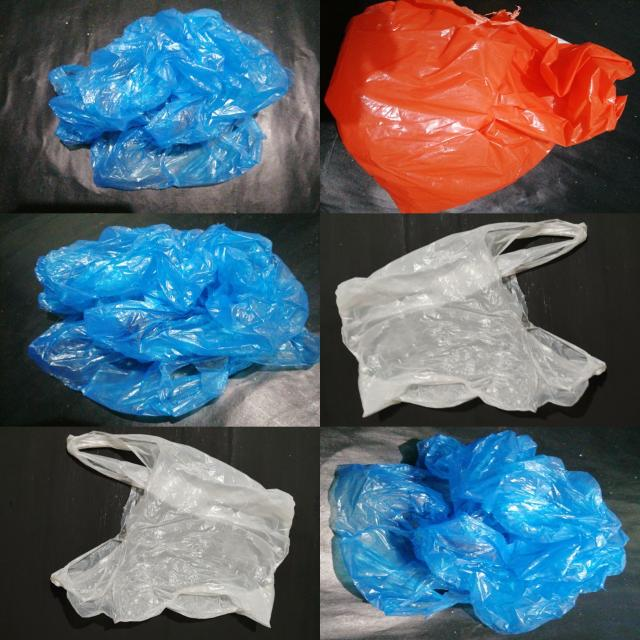Single-layer Plastic: (325, 0, 634, 212), (329, 430, 627, 633), (29, 225, 318, 416), (337, 220, 605, 416), (51, 431, 294, 626), (49, 9, 294, 190)
